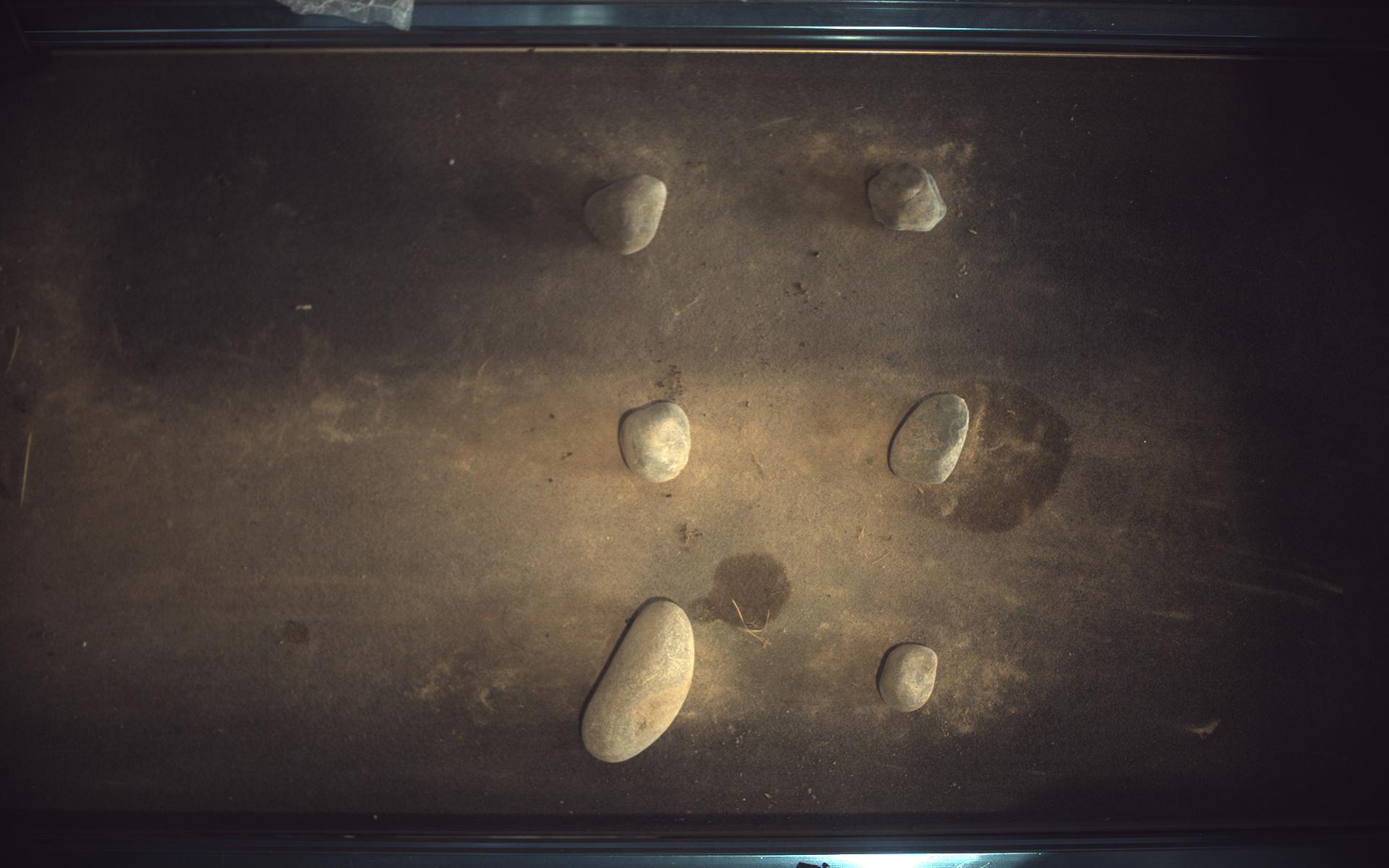stone: (582, 600, 695, 764), (891, 393, 971, 484), (585, 174, 668, 255), (620, 401, 692, 483), (870, 162, 948, 231), (879, 644, 940, 713)
